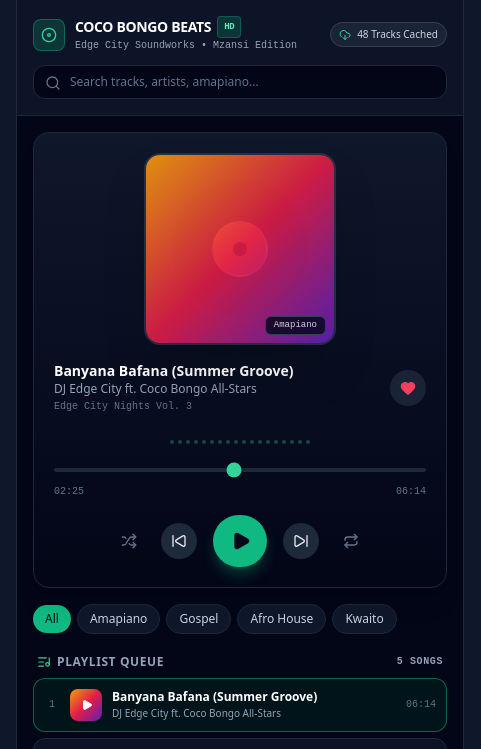
Scenario: CocoBongoMusicFacade Component (Face 2: Music-Centered Camouflage) › toggles track in favorites when clicked normally
This screenshot has width=481, height=749.
Click the button named "Unlike track". click: {"x": 408, "y": 388}
box: [390,370,426,406]
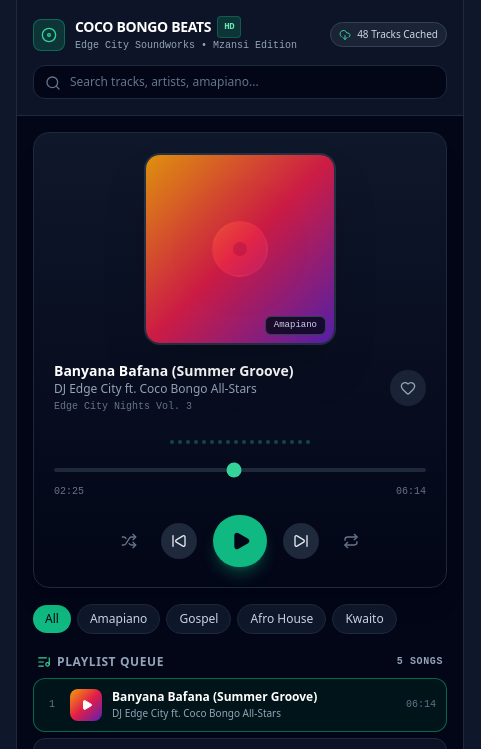
Click the button named "Like track". click: {"x": 408, "y": 388}
box: [390,370,426,406]
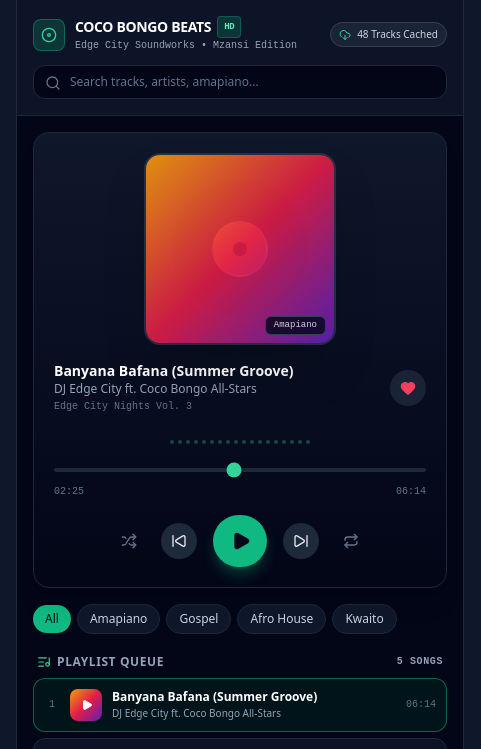
Check: the button named "Unlike track" is shown, box [390,370,426,406]
